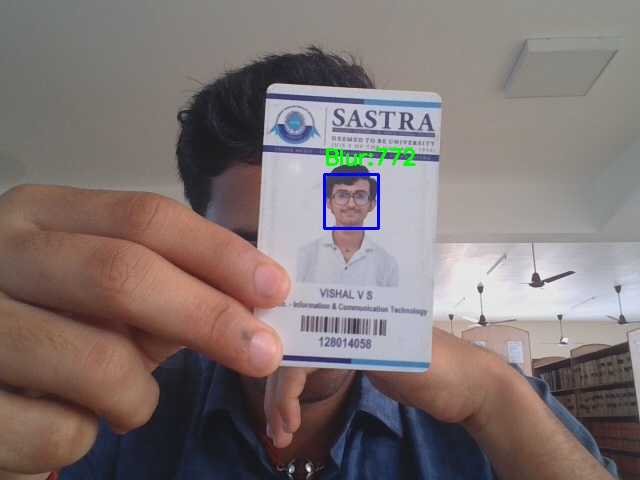fake: (324, 174, 378, 228)
